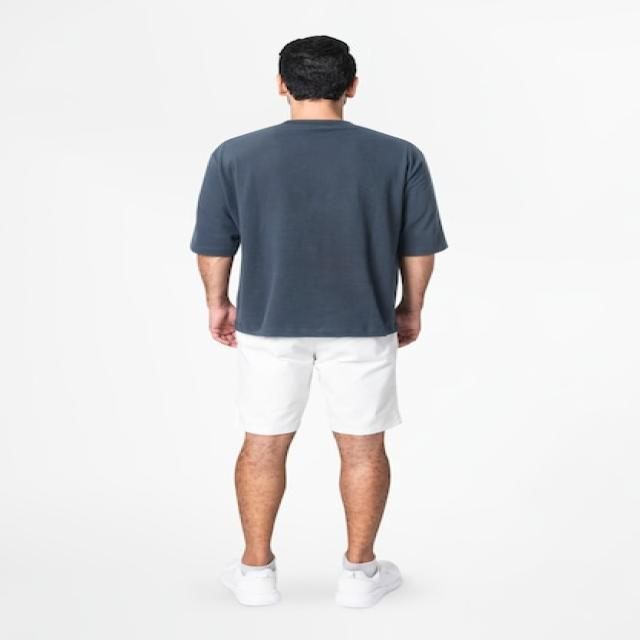Person: (194, 37, 449, 611)
